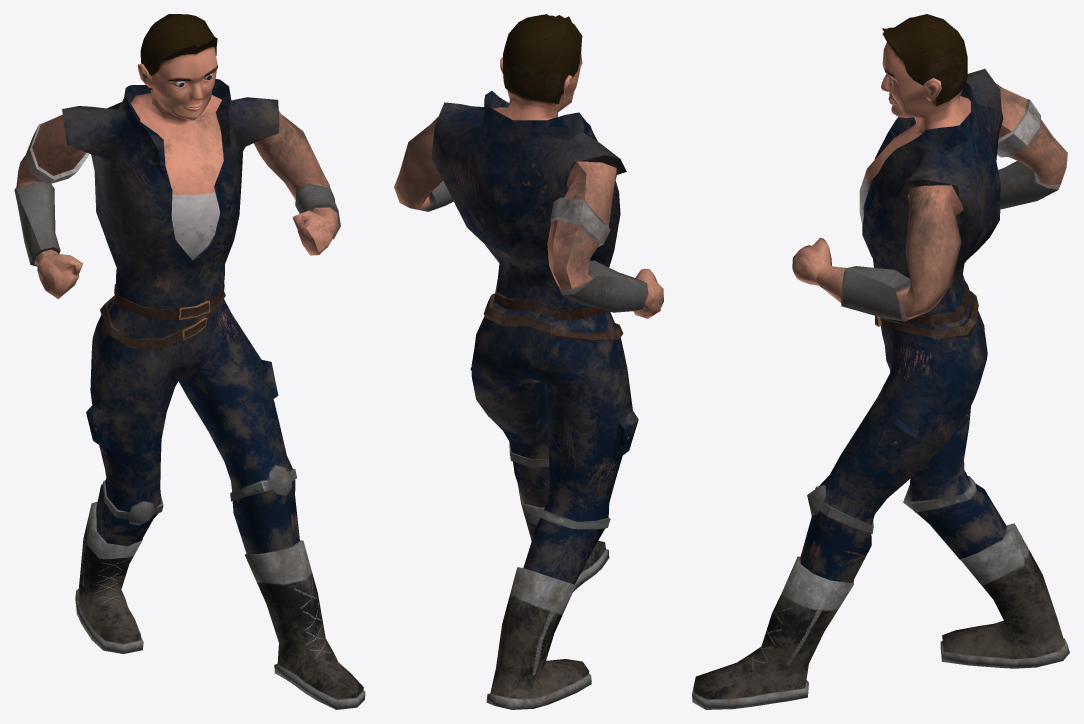
The model's file is Anim_ataque_d1_jugador.0018.obj.
3 renders of one model, left to right at view 1: azimuth 30°, elevation 25°; view 2: azimuth 150°, elevation 25°; view 3: azimuth 270°, elevation 25°, orthographic. The views are drawn at different scales.
Parts seen in each view (by area): view 1: polySurface1; view 2: polySurface1; view 3: polySurface1.
Part boxes in pixels (x1,y1,x2,y2): polySurface1: (14,14,365,709); polySurface1: (394,14,663,709); polySurface1: (692,14,1069,709).
Size of the model in its own units: 4.22 by 9.26 by 4.82.
